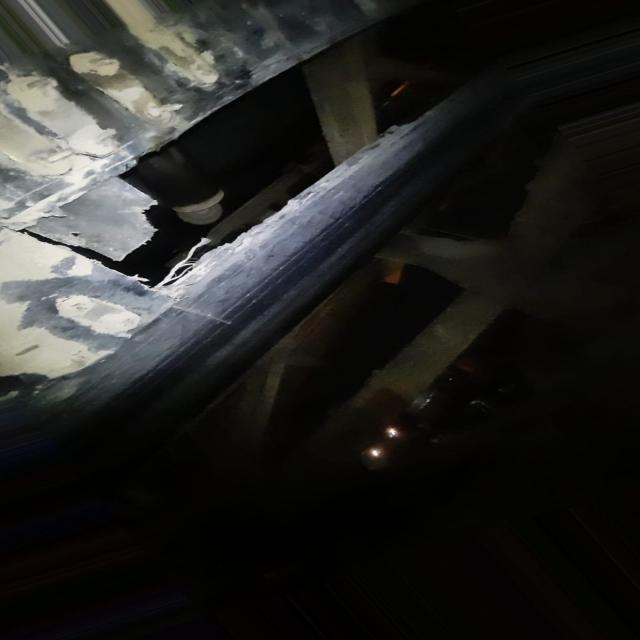Hole: (23, 12, 469, 289)
